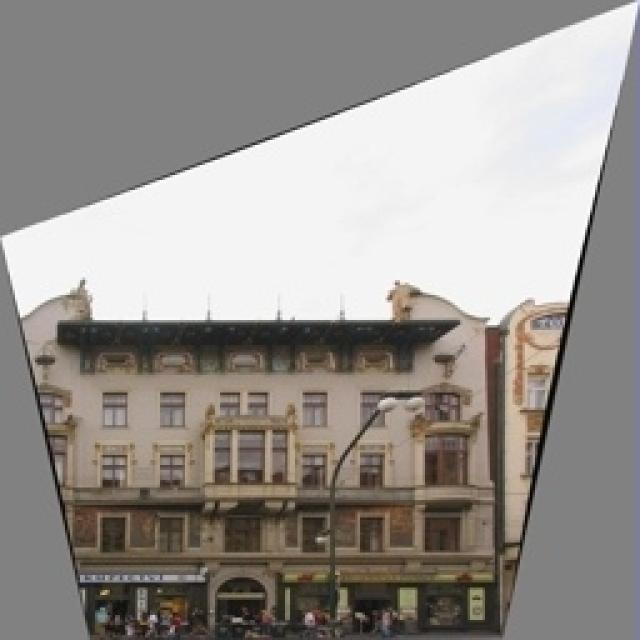building: (0, 265, 508, 640)
